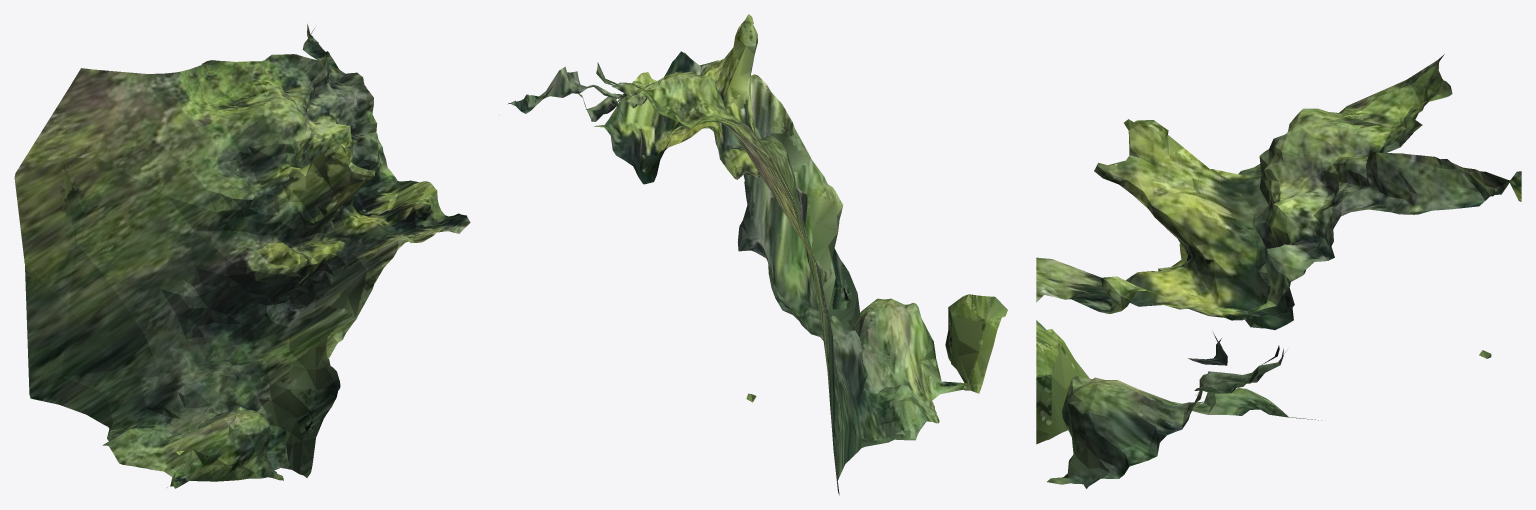
3 views of the same model, side by side, from view 1: azimuth 30°, elevation 25°; view 2: azimuth 150°, elevation 25°; view 3: azimuth 270°, elevation 25° (orthographic). The views are drawn at different scales.
Size of the model in its own units: 26.11 by 26.11 by 26.11.
4 materials, 4 textured.
